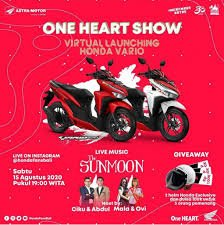motor: (43, 60, 135, 140), (126, 63, 187, 140)
